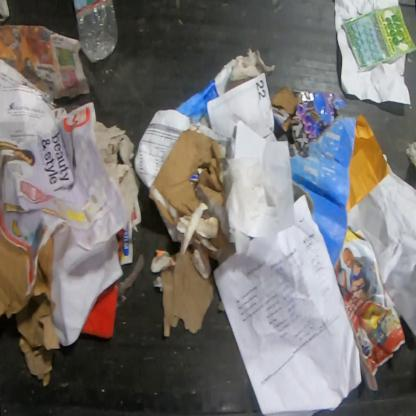cardboard: (0, 227, 62, 388), (151, 129, 227, 217), (271, 84, 302, 133), (209, 221, 230, 250)
rigid_plastic: (73, 0, 119, 64)
soft_plastic: (294, 88, 348, 142), (405, 140, 415, 170)
